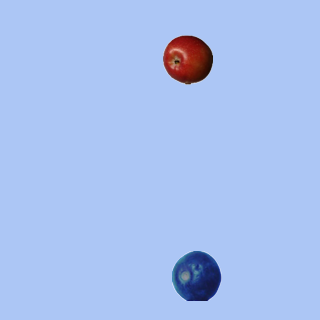Apple Braeburn: (162, 34, 212, 84)
Huckleberry: (171, 250, 221, 300)
